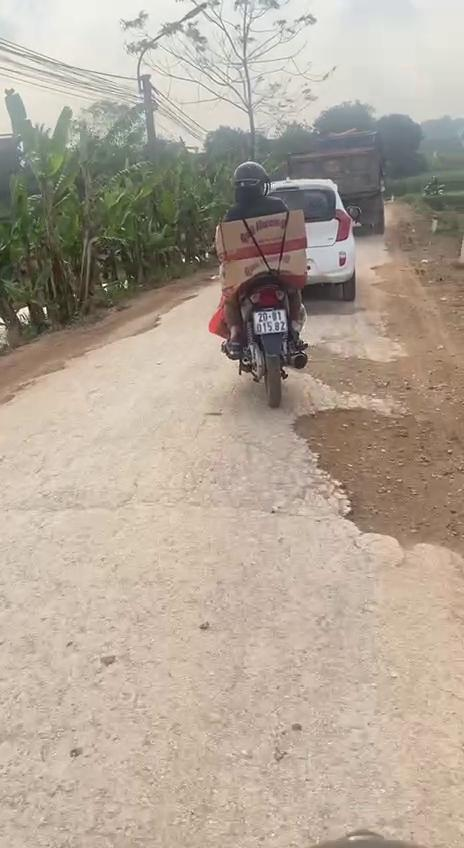pothole: (281, 397, 464, 572), (289, 342, 412, 408), (0, 356, 70, 412), (96, 314, 164, 350)
